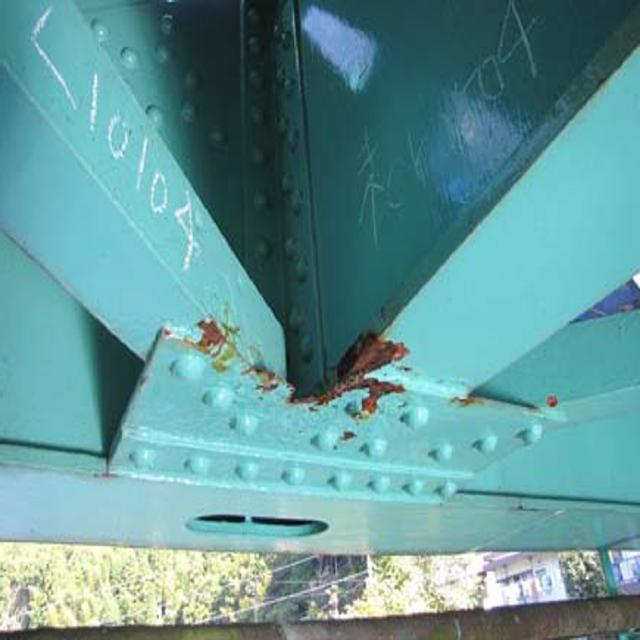corrosion: (192, 317, 422, 416)
